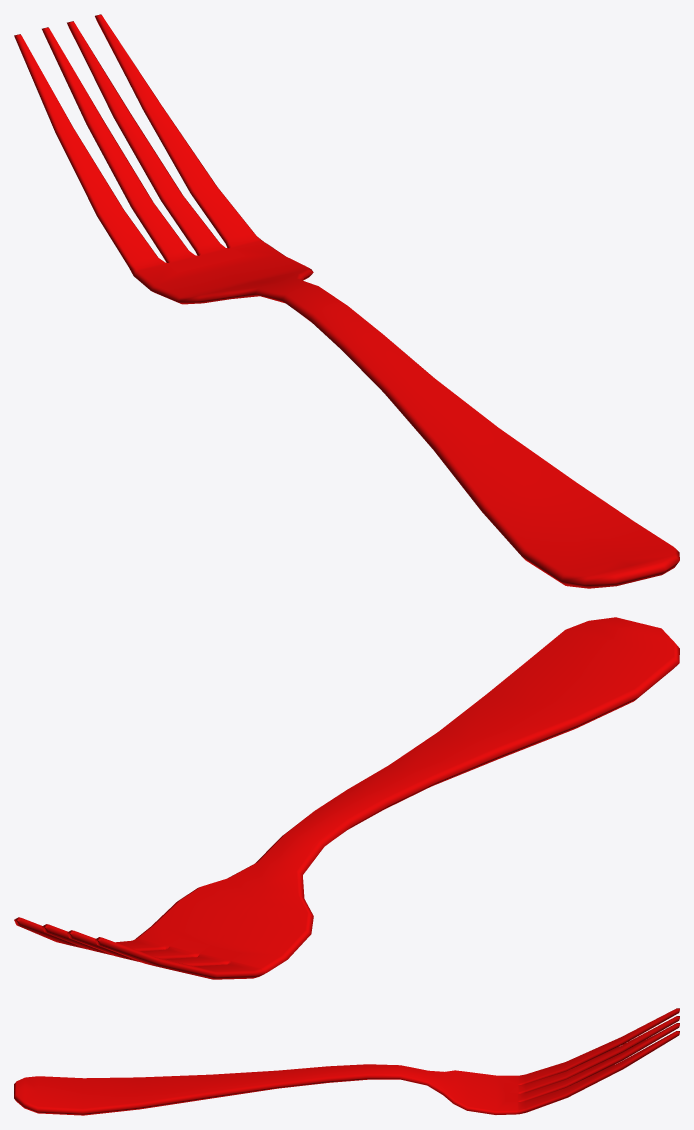
Rendered from thorkea_forks_grp.fbx.
3 views of the same model, one above another, from view 1: azimuth 30°, elevation 25°; view 2: azimuth 150°, elevation 25°; view 3: azimuth 270°, elevation 25° (orthographic). The views are drawn at different scales.
Parts seen in each view (by area): view 1: thorkea_fork_ai2; view 2: thorkea_fork_ai2; view 3: thorkea_fork_ai2.
Boxes of the visible parts, box(x1,y1,x2,y2) form: thorkea_fork_ai2: box(14, 14, 679, 588); thorkea_fork_ai2: box(14, 617, 679, 979); thorkea_fork_ai2: box(14, 1008, 679, 1115).
Bounding box in the file's own units: 2.82 × 2.77 × 20.81.
